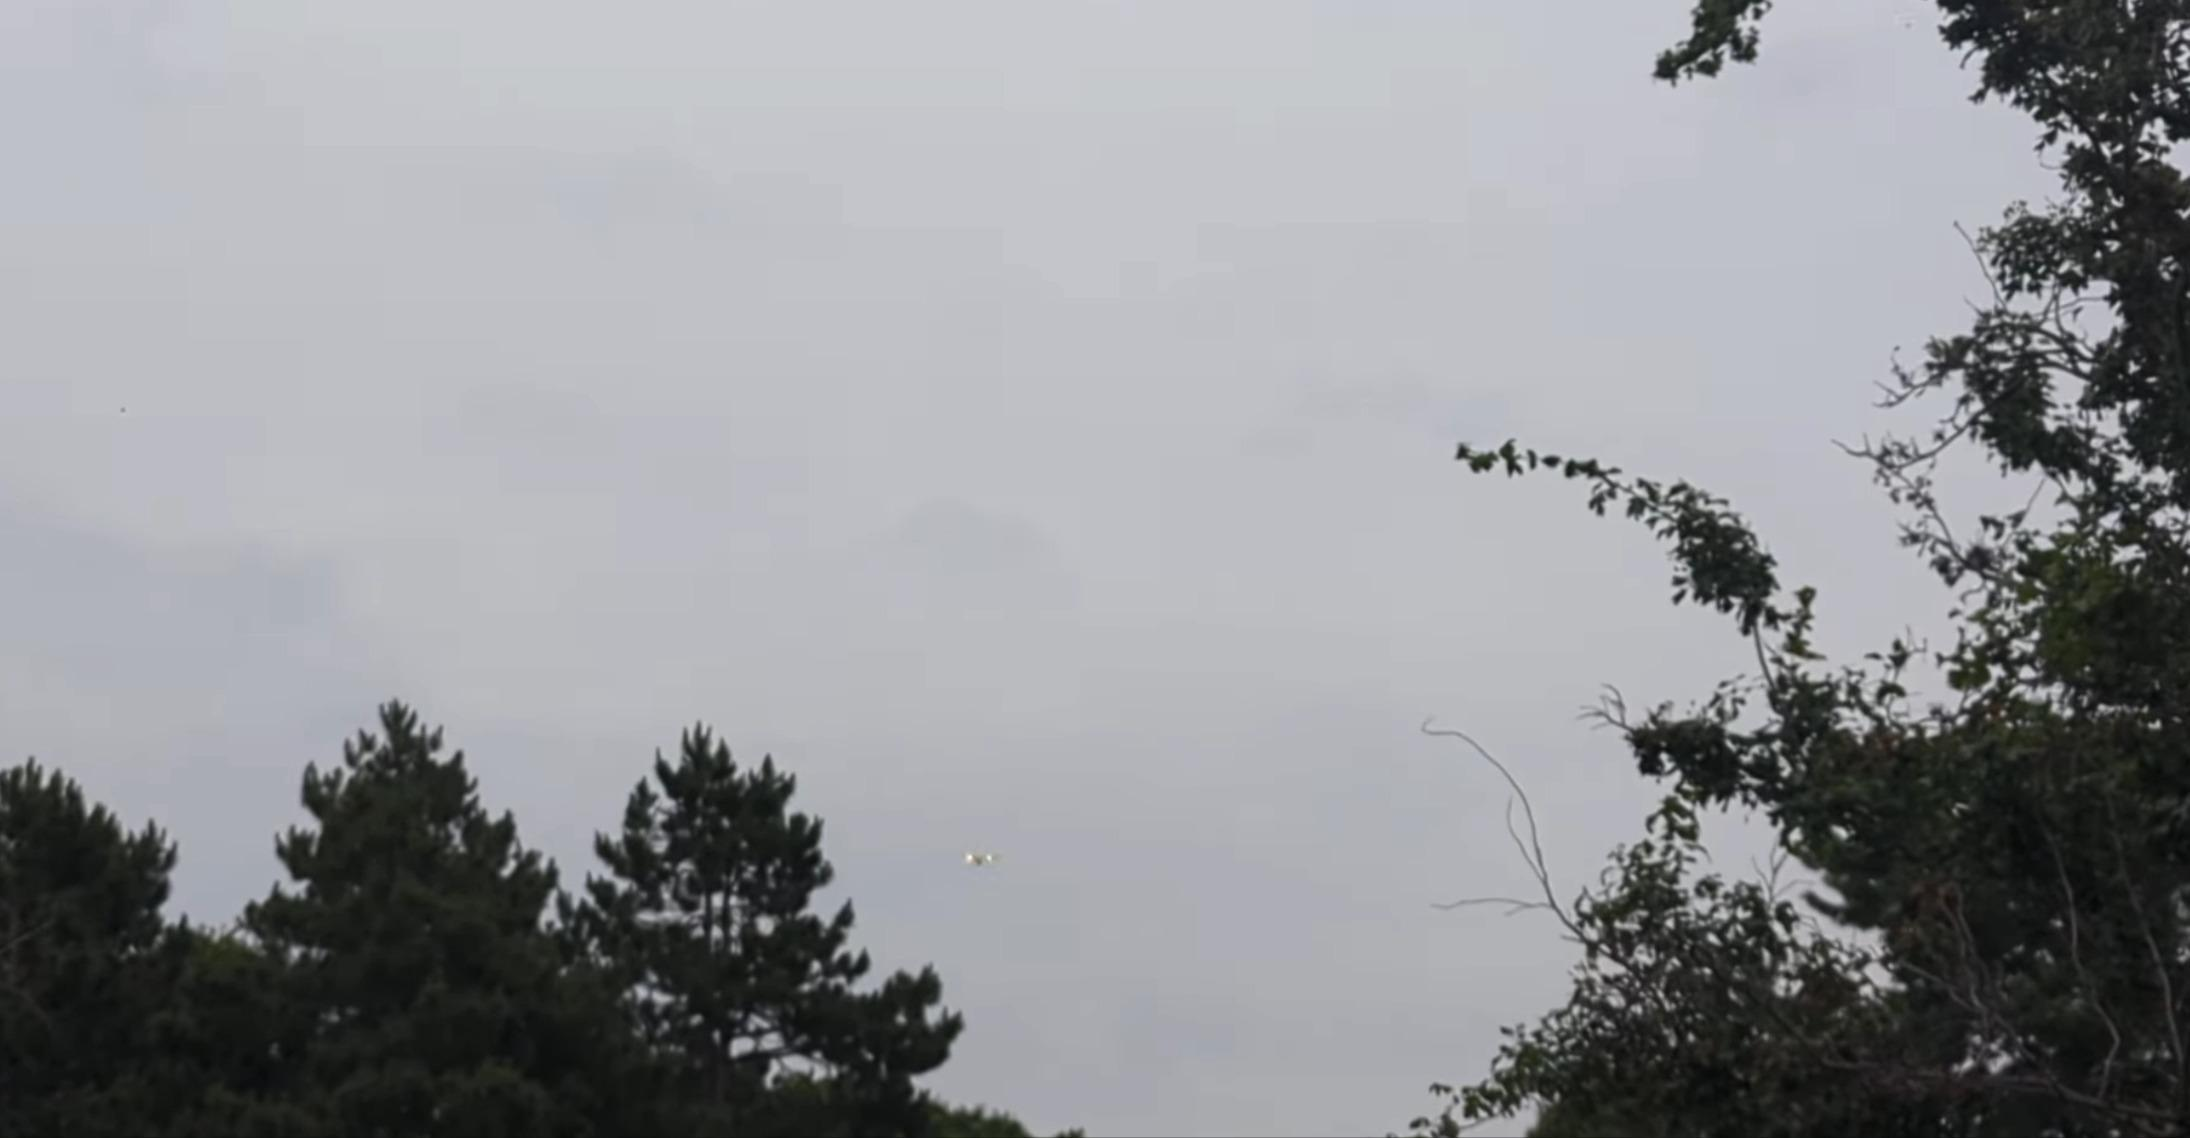Plane: (946, 843, 1017, 877)
